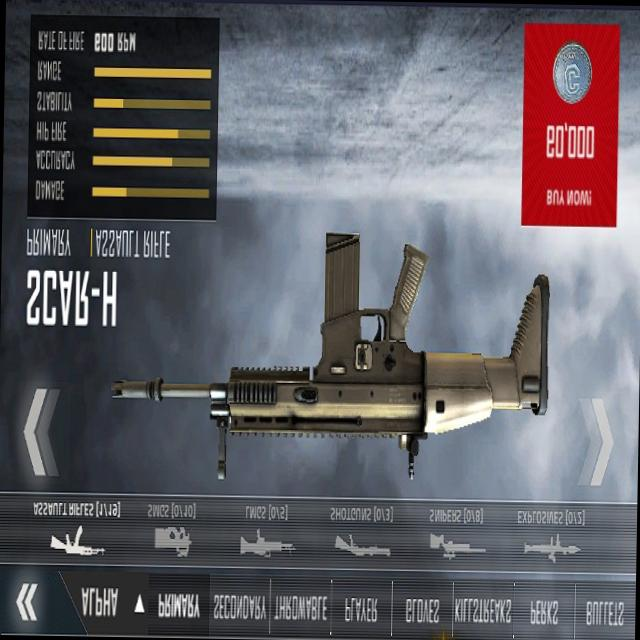Gun: (123, 200, 589, 463)
